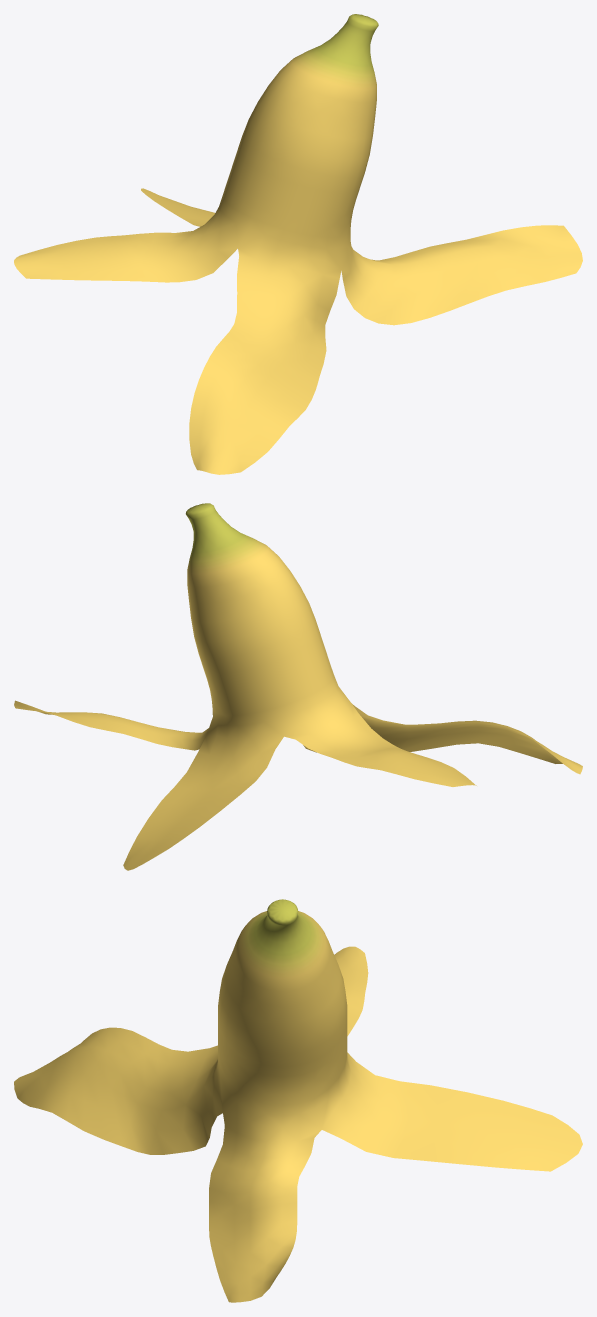
File: banana.FBX
3 renders of one model, top to bottom at view 1: azimuth 30°, elevation 25°; view 2: azimuth 150°, elevation 25°; view 3: azimuth 270°, elevation 25°, orthographic. The views are drawn at different scales.
Parts seen in each view (by area): view 1: Cylinder001; view 2: Cylinder001; view 3: Cylinder001.
Part boxes in pixels (<box>): Cylinder001: <box>14,14,582,474</box>; Cylinder001: <box>14,503,582,870</box>; Cylinder001: <box>14,899,582,1302</box>.
Bounding box in the file's own units: 256 × 143 × 229.
1 material, 1 textured.
